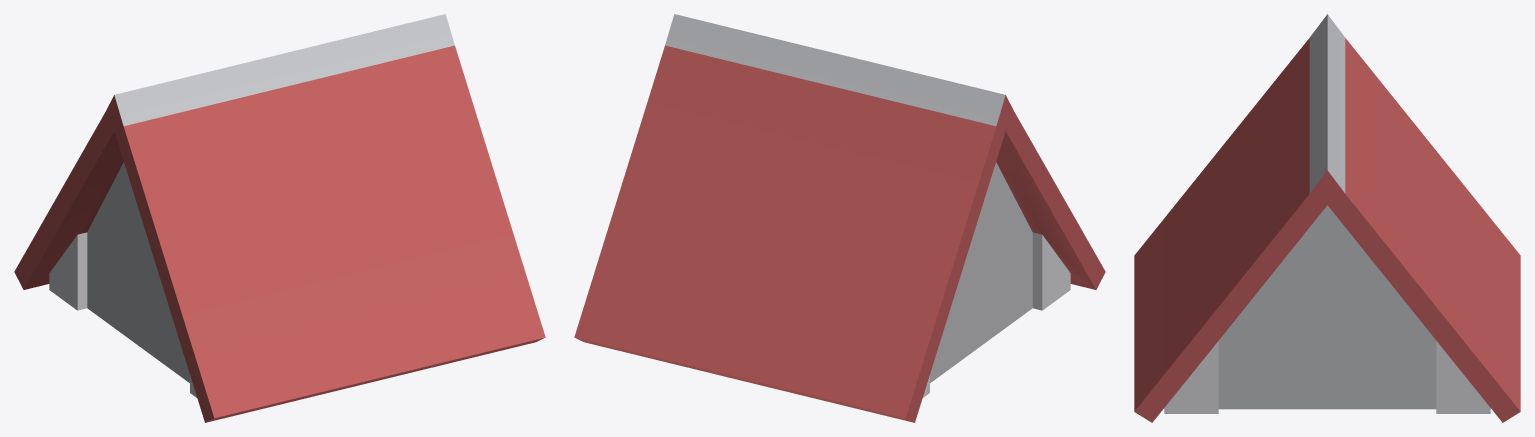
The model's file is Roof_Straight_Red_01.obj.
The picture shows the model from 3 angles, left to right: view 1: azimuth 30°, elevation 25°; view 2: azimuth 150°, elevation 25°; view 3: azimuth 270°, elevation 25°; orthographic projection. The views are drawn at different scales.
Parts seen in each view (by area): view 1: Mesh1_Roof_Straight_Red_Model; view 2: Mesh1_Roof_Straight_Red_Model; view 3: Mesh1_Roof_Straight_Red_Model.
Part boxes in pixels (x1=…): Mesh1_Roof_Straight_Red_Model: x1=14, y1=14, x2=545, y2=422; Mesh1_Roof_Straight_Red_Model: x1=574, y1=14, x2=1105, y2=422; Mesh1_Roof_Straight_Red_Model: x1=1134, y1=14, x2=1520, y2=422.
Bounding box in the file's own units: 3.4 × 2.57 × 3.56.
